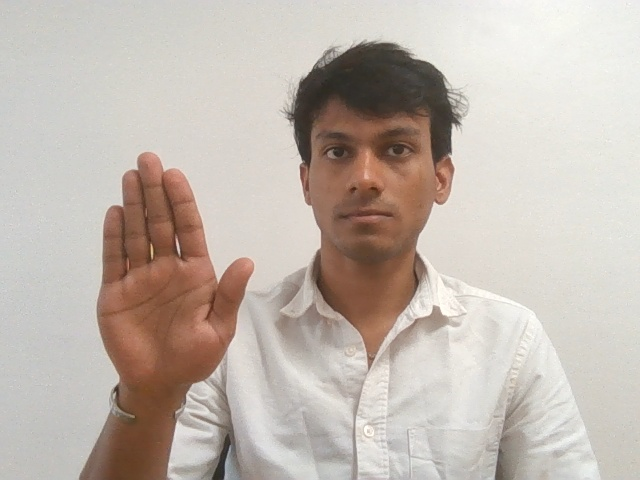Hello: (78, 148, 258, 432)
